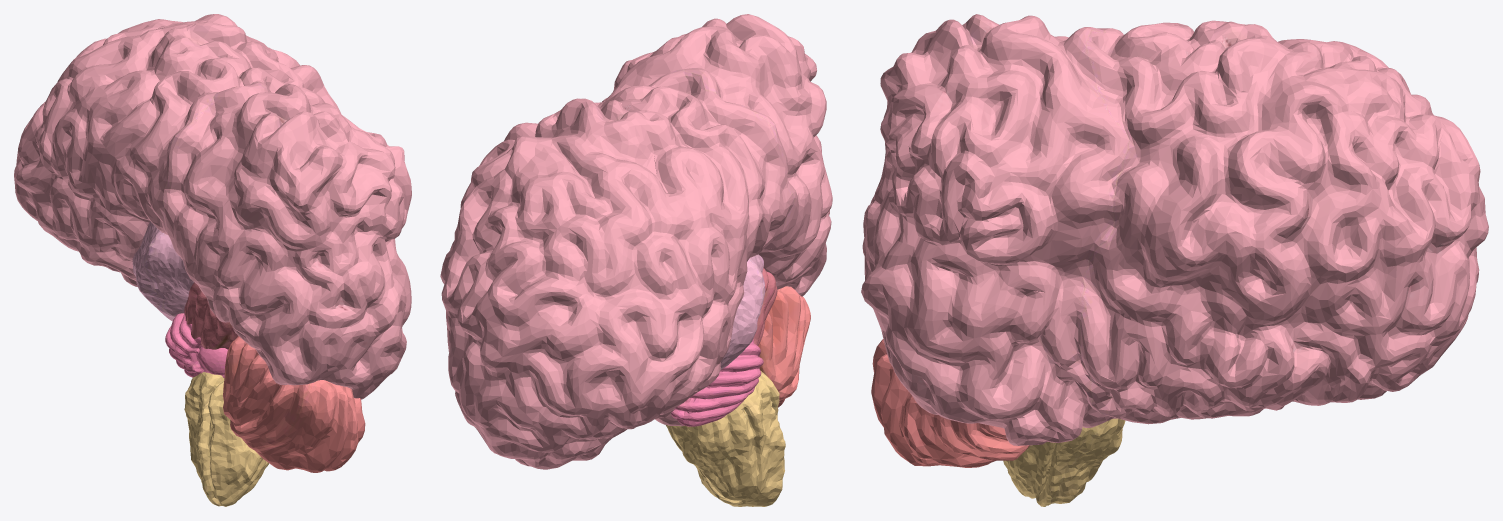
Rendered from brain_mozgowie_przekrojvol5.fbx.
The picture shows the model from 3 angles, left to right: view 1: azimuth 30°, elevation 25°; view 2: azimuth 150°, elevation 25°; view 3: azimuth 270°, elevation 25°; orthographic projection. The views are drawn at different scales.
Visible parts, largest first — view 1: kresomozgowie, mozdzek, rdzen_przedluzony, miedzymozgowie, most, srodmozgowie; view 2: kresomozgowie, rdzen_przedluzony, mozdzek, most, miedzymozgowie, srodmozgowie; view 3: kresomozgowie, mozdzek, rdzen_przedluzony.
Boxes of the visible parts, x1,y1,x2,y2 form: kresomozgowie: [14, 14, 411, 399]; mozdzek: [223, 336, 365, 472]; rdzen_przedluzony: [184, 372, 268, 506]; miedzymozgowie: [132, 221, 193, 321]; most: [165, 312, 227, 377]; srodmozgowie: [184, 282, 237, 349]; kresomozgowie: [440, 14, 832, 469]; rdzen_przedluzony: [666, 371, 785, 506]; mozdzek: [758, 286, 810, 407]; most: [671, 339, 763, 426]; miedzymozgowie: [720, 254, 765, 369]; srodmozgowie: [753, 268, 777, 345]; kresomozgowie: [861, 14, 1488, 445]; mozdzek: [871, 339, 1029, 467]; rdzen_przedluzony: [1003, 418, 1125, 506].
Bounding box in the file's own units: 430 × 657 × 744.
